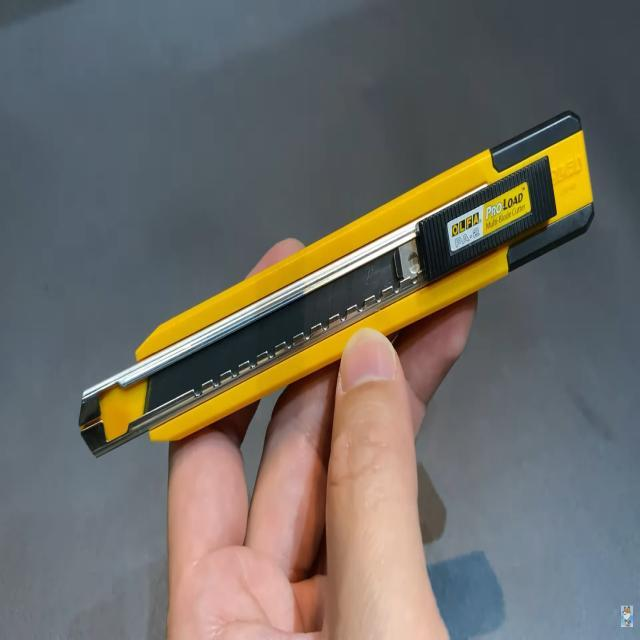cutter: (29, 70, 640, 482)
